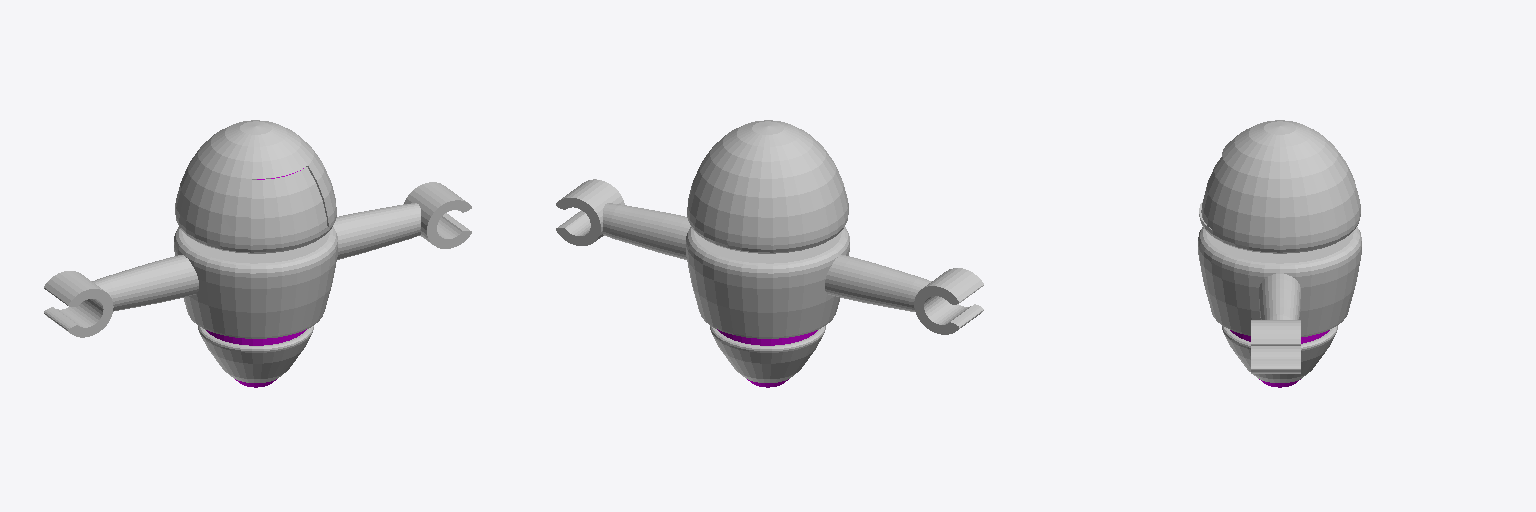
Rendered from floatingrobot.obj.
3 renders of one model, left to right at view 1: azimuth 30°, elevation 25°; view 2: azimuth 150°, elevation 25°; view 3: azimuth 270°, elevation 25°, orthographic.
Parts seen in each view (by area): view 1: Cylinder.001, Sphere, Sphere.001, Sphere.003, Sphere.002, Cylinder; view 2: Sphere.001, Cylinder.001, Sphere, Sphere.002, Cylinder; view 3: Sphere.001, Sphere, Cylinder.001, Sphere.002, Sphere.003.
Part boxes in pixels (x1,y1,x2,y2): Cylinder.001: (44, 182, 471, 337); Sphere: (174, 227, 337, 338); Sphere.001: (175, 120, 336, 253); Sphere.003: (251, 167, 327, 245); Sphere.002: (198, 326, 313, 387); Cylinder: (206, 329, 306, 345); Sphere.001: (687, 120, 848, 253); Cylinder.001: (556, 179, 983, 334); Sphere: (686, 227, 849, 338); Sphere.002: (710, 326, 825, 387); Cylinder: (717, 329, 817, 345); Sphere.001: (1199, 120, 1360, 253); Sphere: (1198, 227, 1361, 336); Cylinder.001: (1251, 274, 1300, 373); Sphere.002: (1222, 326, 1337, 387); Sphere.003: (1201, 157, 1231, 229).
Bounding box in the file's own units: 0.4392 × 0.2696 × 0.1553.